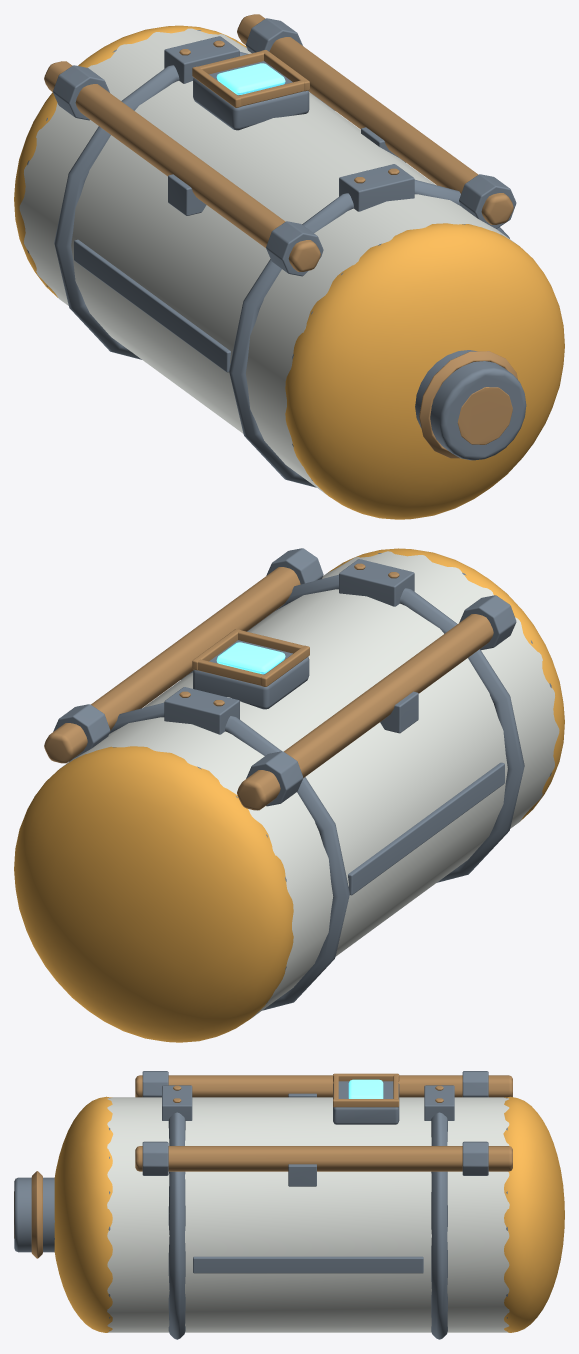
Rendered from fuel-tank.glb.
3 renders of one model, top to bottom at view 1: azimuth 30°, elevation 25°; view 2: azimuth 150°, elevation 25°; view 3: azimuth 270°, elevation 25°, orthographic. The views are drawn at different scales.
Parts seen in each view (by area): view 1: fuel-tank; view 2: fuel-tank; view 3: fuel-tank.
Part boxes in pixels (left/top/right/bottom): fuel-tank: left=14, top=14, right=564, bottom=519; fuel-tank: left=14, top=548, right=564, bottom=1042; fuel-tank: left=14, top=1071, right=564, bottom=1339.
Bounding box in the file's own units: 0.918 × 0.9546 × 1.98.
